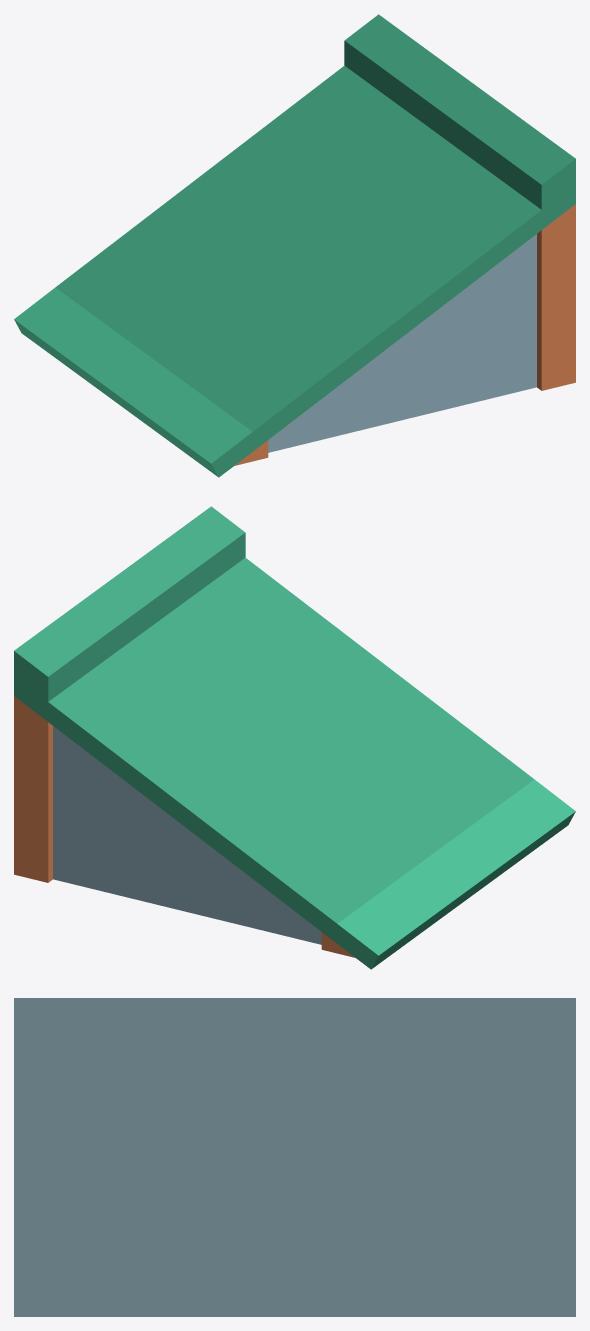
File: roof.obj
The picture shows the model from 3 angles, top to bottom: view 1: azimuth 30°, elevation 25°; view 2: azimuth 150°, elevation 25°; view 3: azimuth 270°, elevation 25°; orthographic projection. The views are drawn at different scales.
Parts seen in each view (by area): view 1: roof; view 2: roof; view 3: roof.
Part boxes in pixels (box(x1,y1,x2,y2)): roof: box(14, 14, 575, 477); roof: box(14, 506, 575, 969); roof: box(14, 998, 575, 1316).
Size of the model in its own units: 1.07 by 0.648 by 1.
